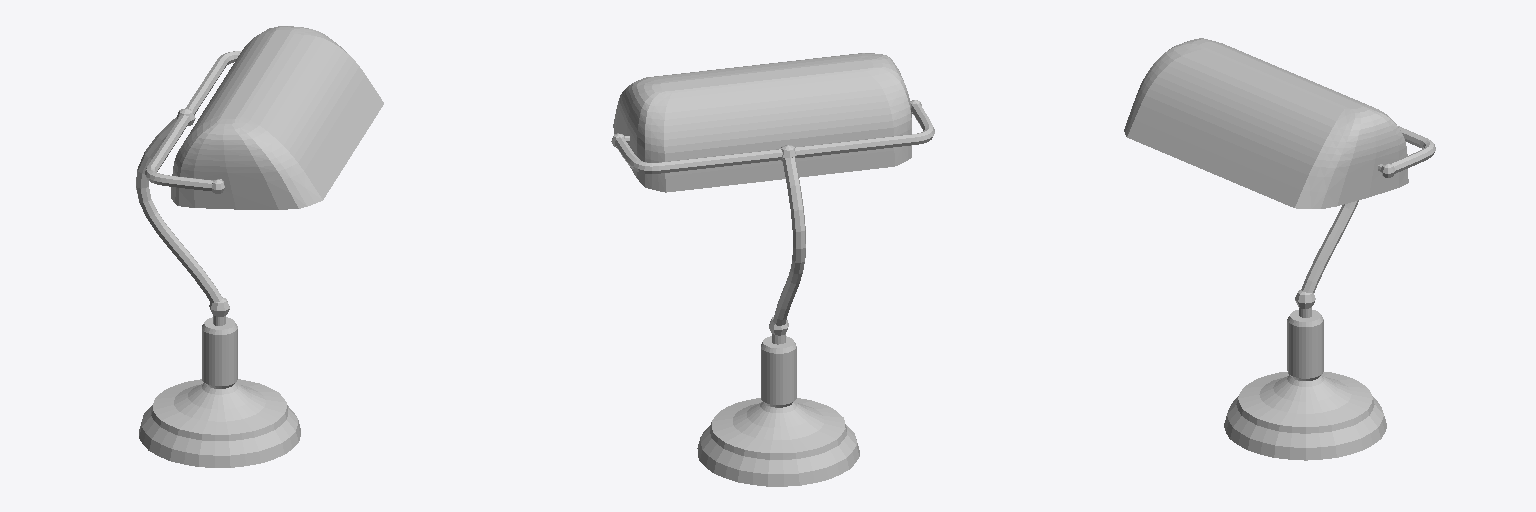
Rendered from desk_lamp.obj.
3 renders of one model, left to right at view 1: azimuth 30°, elevation 25°; view 2: azimuth 150°, elevation 25°; view 3: azimuth 270°, elevation 25°, orthographic.
Visible parts, largest first — view 1: Cylinder.003_Cylinder.011; view 2: Cylinder.003_Cylinder.011; view 3: Cylinder.003_Cylinder.011.
Boxes of the visible parts, <box> form: Cylinder.003_Cylinder.011: <box>136,26,383,467</box>; Cylinder.003_Cylinder.011: <box>611,53,934,486</box>; Cylinder.003_Cylinder.011: <box>1124,38,1435,460</box>.
Bounding box in the file's own units: 94.58 × 121 × 93.86.